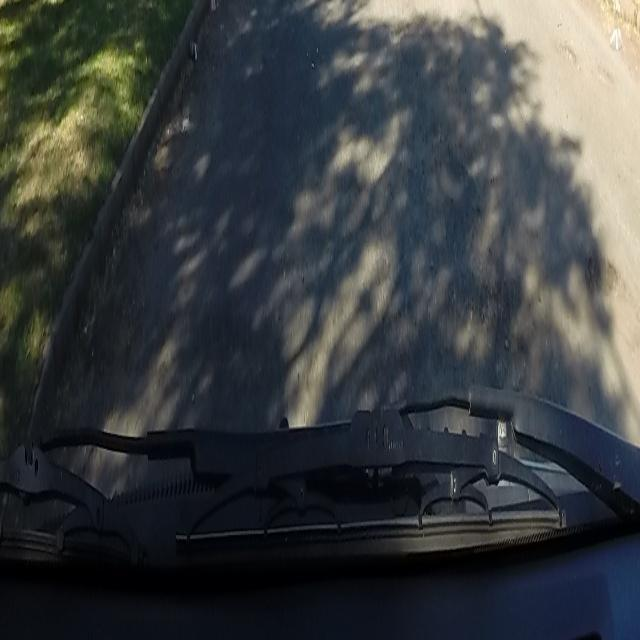pothole: (586, 254, 624, 300)
